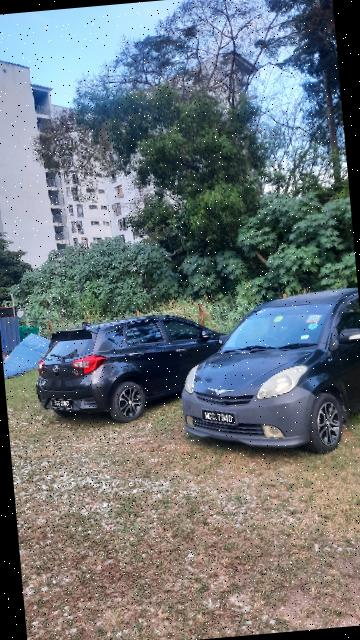License_Plate: (200, 404, 240, 432), (47, 394, 83, 415)
car: (168, 290, 360, 466), (32, 308, 249, 434)
